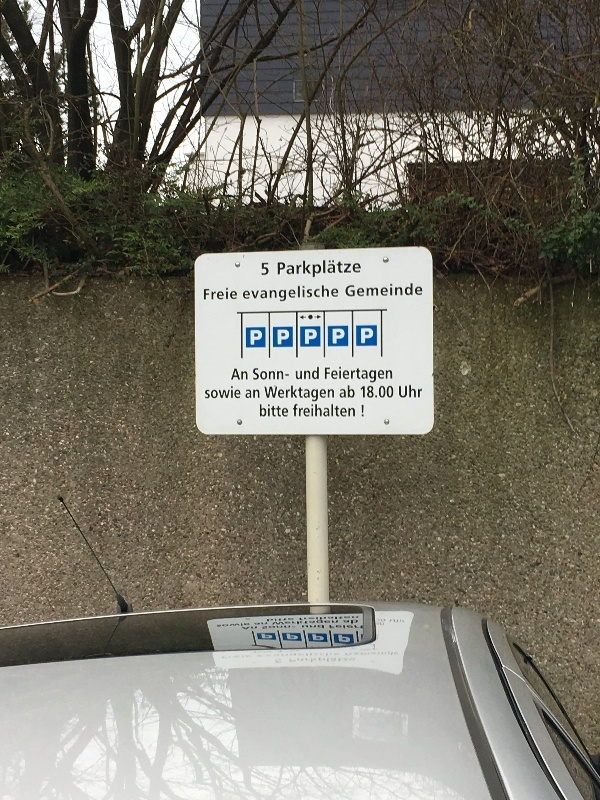text: (289, 258, 304, 282), (305, 258, 320, 282), (321, 258, 336, 282), (337, 258, 352, 282), (257, 285, 272, 305), (273, 285, 288, 305), (289, 285, 304, 305), (305, 285, 320, 305), (321, 285, 336, 305), (337, 365, 352, 383), (353, 365, 368, 383), (369, 365, 384, 383), (273, 385, 288, 403), (289, 385, 304, 403), (305, 385, 320, 403), (243, 285, 256, 305), (278, 258, 288, 282), (305, 329, 320, 345), (225, 385, 241, 400), (321, 385, 334, 403), (209, 385, 224, 400), (273, 404, 288, 419), (305, 402, 320, 417), (321, 402, 336, 417), (337, 402, 352, 417), (353, 283, 368, 298), (369, 283, 384, 298), (385, 283, 400, 298), (401, 283, 416, 298), (305, 366, 319, 381), (369, 386, 384, 400), (401, 385, 416, 399), (209, 287, 224, 301), (273, 368, 289, 381), (325, 365, 336, 383), (257, 368, 272, 381), (353, 258, 361, 282), (260, 404, 272, 419), (340, 385, 352, 399), (225, 287, 237, 301), (293, 402, 304, 417), (353, 402, 364, 417), (278, 330, 288, 345), (385, 365, 393, 383), (262, 263, 272, 277), (265, 385, 272, 403), (337, 329, 345, 344), (296, 366, 304, 381), (361, 328, 368, 344), (385, 386, 393, 400), (257, 329, 263, 347), (339, 635, 352, 643), (246, 389, 256, 399), (361, 386, 368, 400), (346, 283, 352, 298), (417, 283, 423, 298), (251, 329, 256, 347), (241, 369, 248, 381), (369, 328, 374, 344), (234, 369, 240, 381), (417, 385, 422, 399), (262, 633, 272, 640), (289, 633, 298, 640), (204, 287, 208, 301), (313, 634, 320, 641), (333, 329, 336, 344), (205, 385, 208, 400), (337, 285, 339, 305), (253, 368, 256, 381), (257, 389, 260, 399), (353, 385, 355, 399), (321, 634, 324, 641), (289, 330, 290, 345), (399, 385, 400, 399), (287, 633, 288, 640)
